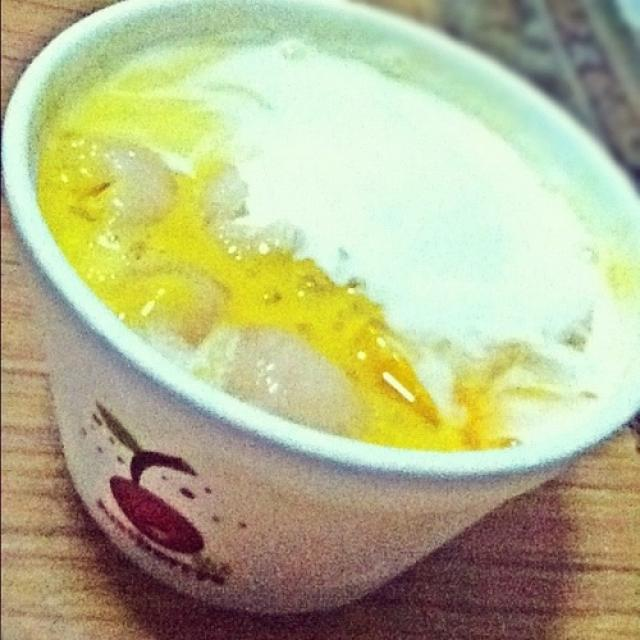蛋糕甜品: (7, 5, 634, 604)
